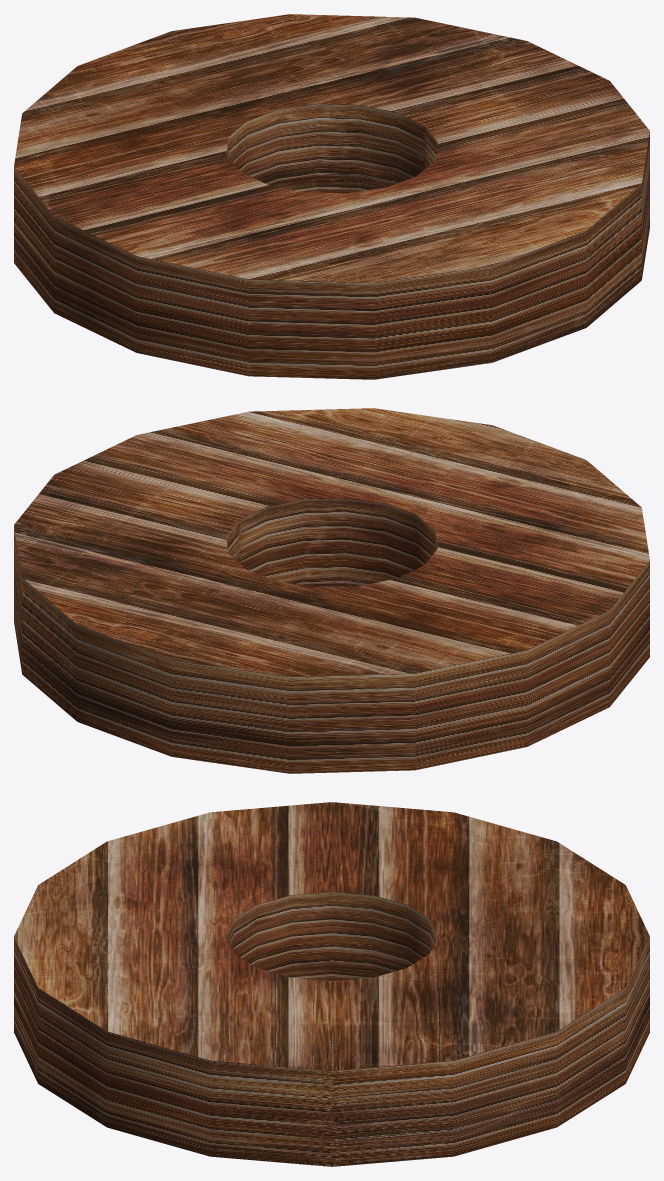
Rendered from disk.obj.
3 views of the same model, one above another, from view 1: azimuth 30°, elevation 25°; view 2: azimuth 150°, elevation 25°; view 3: azimuth 270°, elevation 25° (orthographic).
Visible parts, largest first — view 1: _Geometry_0; view 2: _Geometry_0; view 3: _Geometry_0.
Part boxes in pixels (x1,y1,x2,y2): _Geometry_0: (14, 14, 649, 379); _Geometry_0: (14, 408, 649, 773); _Geometry_0: (14, 802, 649, 1166).
Size of the model in its own units: 6 by 1 by 6.
